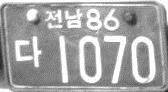0: (130, 34, 156, 84), (78, 34, 102, 84)
1: (57, 33, 70, 85)
6: (103, 6, 120, 30)
7: (102, 34, 127, 86)
8: (85, 7, 102, 31)
다: (14, 34, 42, 69)
전남_O: (44, 8, 83, 30)
